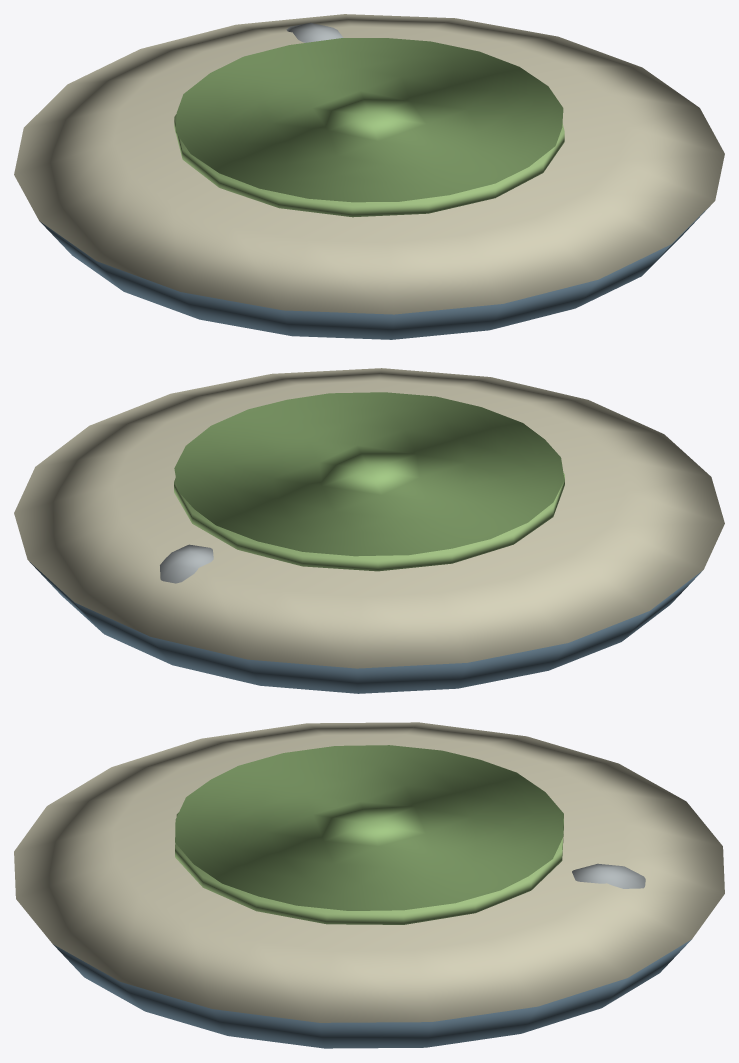
File: terrain_island_09.glb
The picture shows the model from 3 angles, top to bottom: view 1: azimuth 30°, elevation 25°; view 2: azimuth 150°, elevation 25°; view 3: azimuth 270°, elevation 25°; orthographic projection.
Visible parts, largest first — view 1: island_sand, island_grass_dome, island_base, island_grass_base, rock1; view 2: island_sand, island_grass_dome, island_base, island_grass_base, rock1; view 3: island_sand, island_grass_dome, island_base, island_grass_base, rock1.
Part boxes in pixels (<box>): island_sand: <box>14,14,724,314</box>; island_grass_dome: <box>175,38,563,202</box>; island_base: <box>39,206,709,339</box>; island_grass_base: <box>174,114,564,217</box>; rock1: <box>286,22,343,42</box>; island_sand: <box>14,368,724,668</box>; island_grass_dome: <box>174,392,564,556</box>; island_base: <box>30,562,702,693</box>; island_grass_base: <box>174,472,564,571</box>; rock1: <box>160,544,213,583</box>; island_sand: <box>14,722,724,1022</box>; island_grass_dome: <box>175,745,563,910</box>; island_base: <box>53,939,691,1048</box>; island_grass_base: <box>175,812,563,924</box>; rock1: <box>572,863,645,888</box>.
Bounding box in the file's own units: 4.75 × 0.66 × 4.75.
